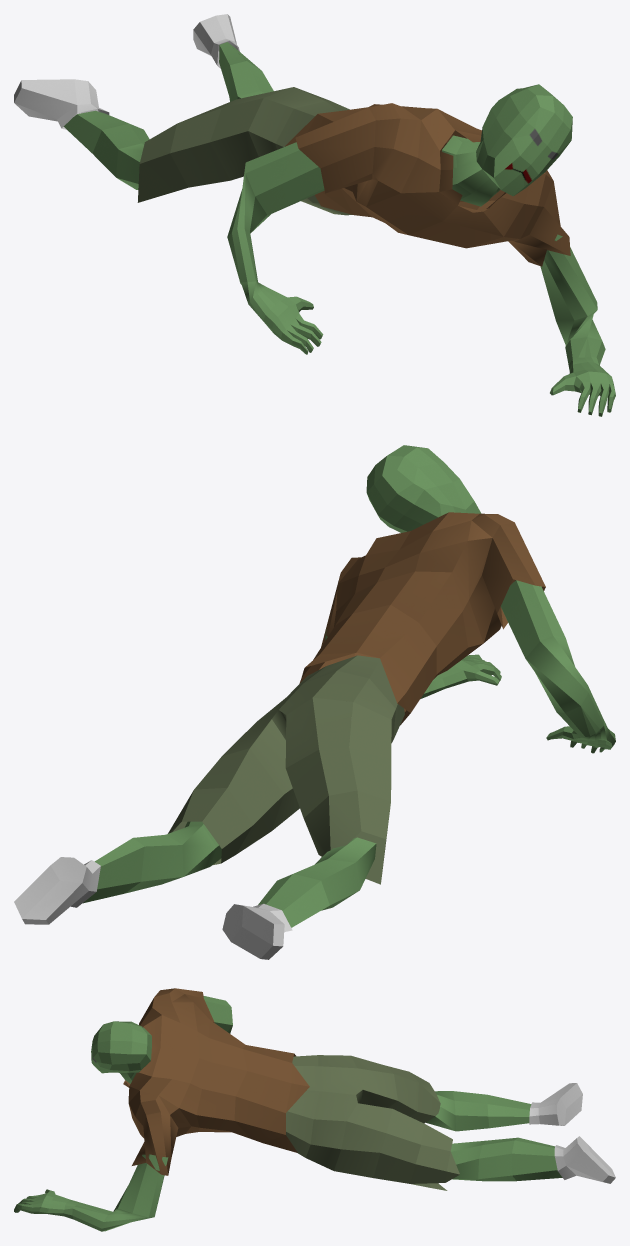
File: ZombieCrawl(129).obj
3 views of the same model, one above another, from view 1: azimuth 30°, elevation 25°; view 2: azimuth 150°, elevation 25°; view 3: azimuth 270°, elevation 25° (orthographic). The views are drawn at different scales.
Visible parts, largest first — view 1: Object001; view 2: Object001; view 3: Object001.
Part boxes in pixels (x1,y1,x2,y2): Object001: (14, 14, 615, 416); Object001: (14, 445, 615, 959); Object001: (14, 988, 615, 1231).
Bounding box in the file's own units: 27.96 × 23.48 × 65.82.
